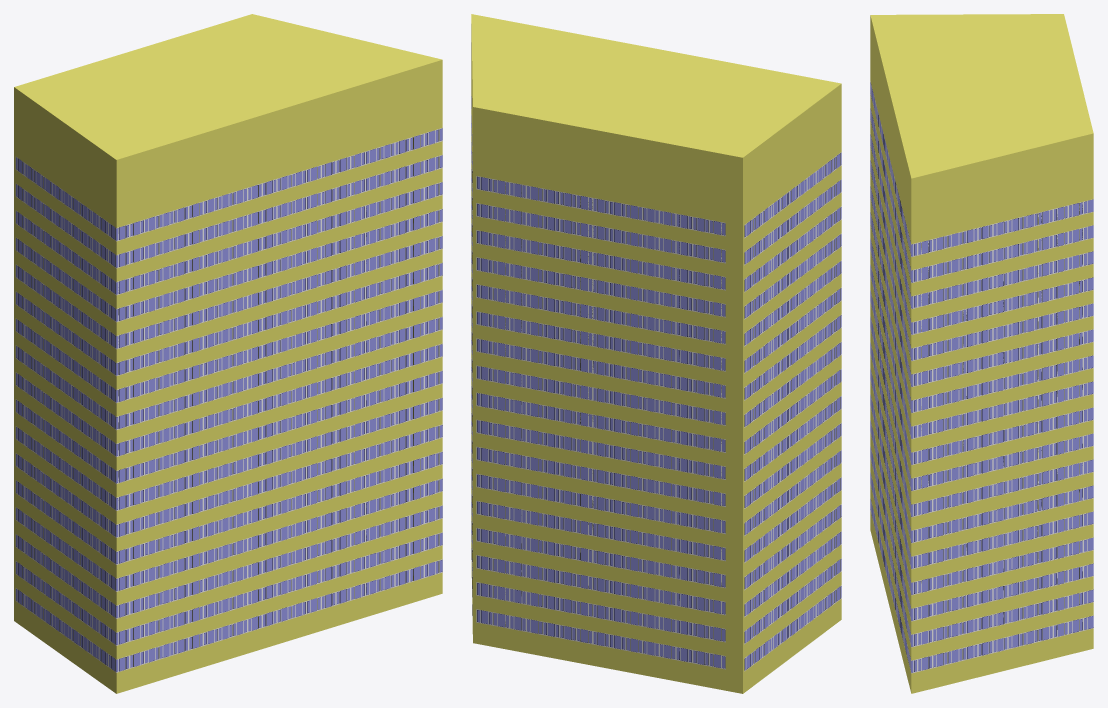
Rendered from Eighty.fbx.
3 views of the same model, side by side, from view 1: azimuth 30°, elevation 25°; view 2: azimuth 150°, elevation 25°; view 3: azimuth 270°, elevation 25° (orthographic). The views are drawn at different scales.
Visible parts, largest first — view 1: Eighty; view 2: Eighty; view 3: Eighty.
Boxes of the visible parts, x1=… form: Eighty: x1=14, y1=14, x2=442, y2=693; Eighty: x1=471, y1=14, x2=841, y2=693; Eighty: x1=870, y1=14, x2=1093, y2=693.
Size of the model in its own units: 5538 by 8081 by 3175.
